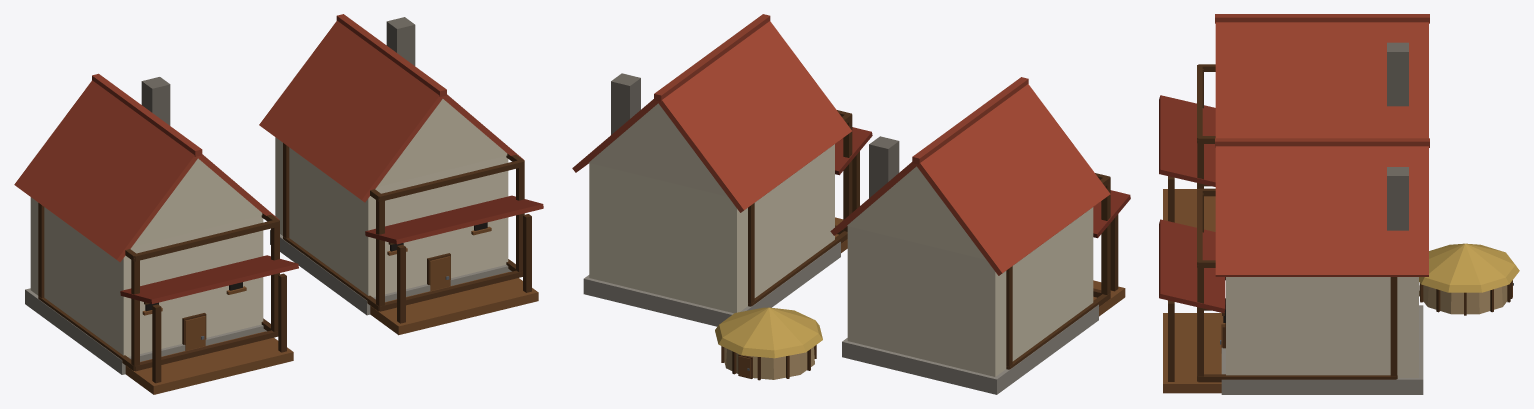
Rendered from human_row_broken.glb.
The picture shows the model from 3 angles, left to right: view 1: azimuth 30°, elevation 25°; view 2: azimuth 150°, elevation 25°; view 3: azimuth 270°, elevation 25°; orthographic projection. The views are drawn at different scales.
Visible parts, largest first — view 1: human_row_piece4, human_row_piece2, human_row_piece8, human_row_piece7, human_row_piece9, human_row_piece1, human_row_piece10, human_row_piece3, human_row_piece5, human_row_piece6, human_row_piece11, human_row_piece13; view 2: human_row_piece4, human_row_piece1, human_row_piece0, human_row_piece2, human_row_piece5, human_row_piece8, human_row_piece10, human_row_piece3, human_row_piece9, human_row_piece13, human_row_piece6, human_row_piece11 (+1 smaller); view 3: human_row_piece1, human_row_piece4, human_row_piece7, human_row_piece2, human_row_piece9, human_row_piece5, human_row_piece3, human_row_piece0, human_row_piece13, human_row_piece10, human_row_piece8, human_row_piece6.
Boxes of the visible parts, x1=… form: human_row_piece4: x1=14, y1=73, x2=240, y2=353; human_row_piece2: x1=280, y1=76, x2=541, y2=269; human_row_piece8: x1=93, y1=184, x2=240, y2=394; human_row_piece7: x1=159, y1=128, x2=298, y2=380; human_row_piece9: x1=343, y1=173, x2=520, y2=335; human_row_piece1: x1=386, y1=17, x2=543, y2=305; human_row_piece10: x1=281, y1=40, x2=427, y2=133; human_row_piece3: x1=310, y1=203, x2=374, y2=316; human_row_piece5: x1=270, y1=14, x2=382, y2=244; human_row_piece6: x1=158, y1=77, x2=311, y2=274; human_row_piece11: x1=275, y1=146, x2=309, y2=273; human_row_piece13: x1=259, y1=123, x2=294, y2=262; human_row_piece4: x1=871, y1=99, x2=1085, y2=394; human_row_piece1: x1=572, y1=73, x2=710, y2=324; human_row_piece0: x1=752, y1=150, x2=928, y2=379; human_row_piece2: x1=743, y1=14, x2=832, y2=291; human_row_piece5: x1=646, y1=63, x2=740, y2=376; human_row_piece8: x1=1048, y1=126, x2=1130, y2=341; human_row_piece10: x1=696, y1=28, x2=759, y2=189; human_row_piece3: x1=781, y1=168, x2=843, y2=298; human_row_piece9: x1=817, y1=103, x2=872, y2=252; human_row_piece13: x1=730, y1=208, x2=809, y2=380; human_row_piece6: x1=709, y1=143, x2=872, y2=300; human_row_piece11: x1=722, y1=209, x2=780, y2=307; human_row_piece1: x1=1159, y1=159, x2=1428, y2=394; human_row_piece4: x1=1270, y1=14, x2=1429, y2=137; human_row_piece7: x1=1159, y1=14, x2=1276, y2=222; human_row_piece2: x1=1159, y1=138, x2=1265, y2=324; human_row_piece9: x1=1159, y1=188, x2=1225, y2=374; human_row_piece5: x1=1319, y1=138, x2=1517, y2=320; human_row_piece3: x1=1218, y1=29, x2=1303, y2=314; human_row_piece0: x1=1371, y1=60, x2=1511, y2=260; human_row_piece13: x1=1419, y1=243, x2=1519, y2=313; human_row_piece10: x1=1254, y1=138, x2=1359, y2=198; human_row_piece8: x1=1159, y1=64, x2=1215, y2=231; human_row_piece6: x1=1304, y1=51, x2=1408, y2=138.
Bounding box in the file's own units: 5.83 × 2.86 × 4.29.
